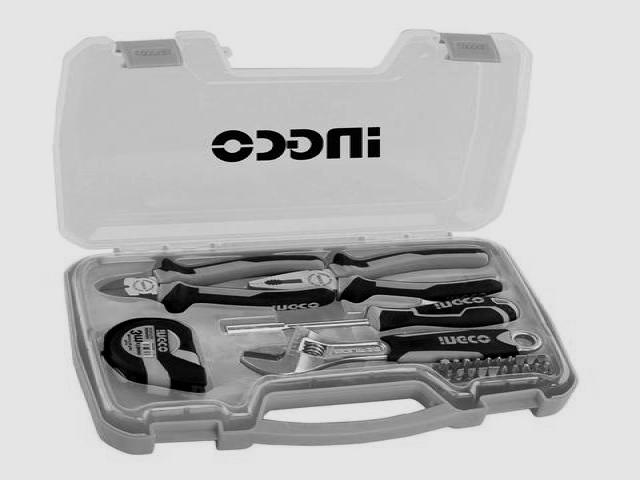Adjustable spanner: (242, 327, 542, 374)
Cutting pliers: (100, 255, 335, 313)
Pliers: (249, 248, 502, 303)
Screwdriver: (225, 296, 519, 333)
Tape measure: (102, 318, 206, 392)
